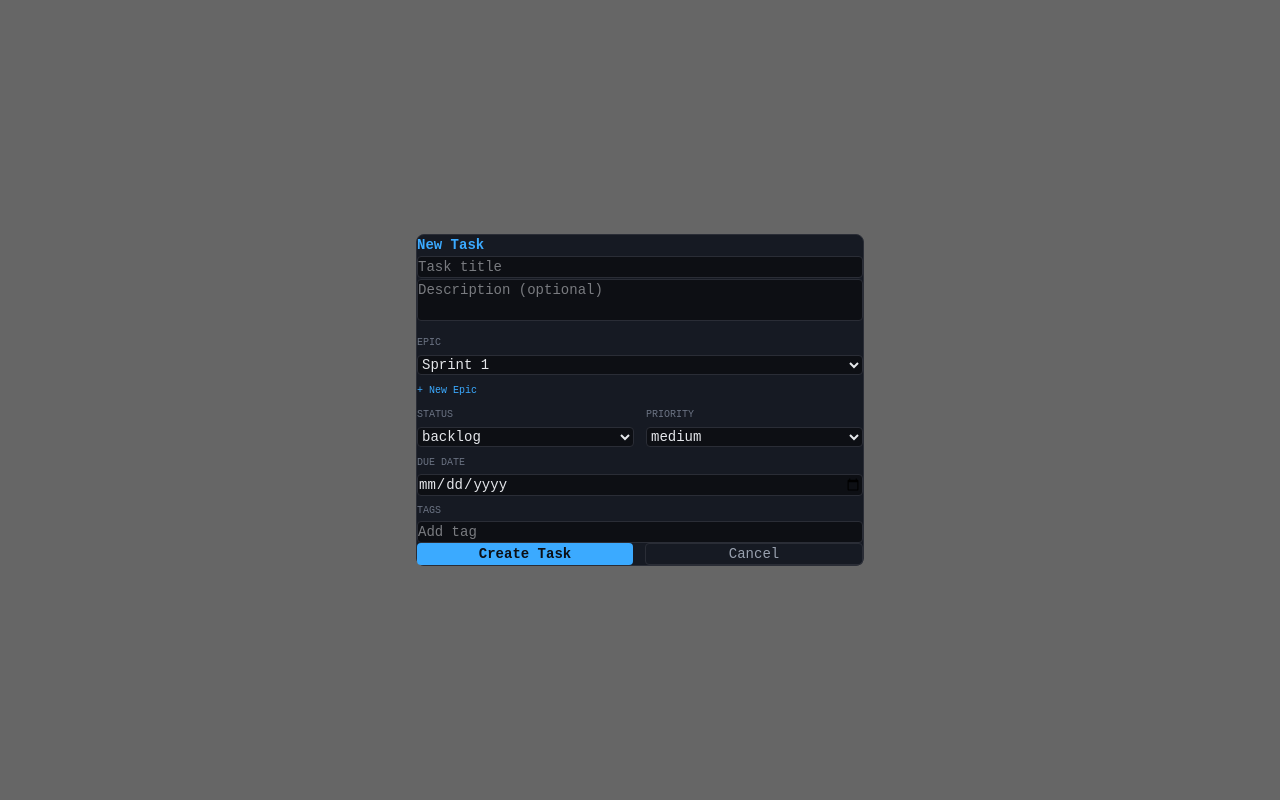
Test case: TaskModal — Inline Epic Creation › shows inline input on "+ New Epic" click
Click the button "+ New Epic": point(447, 390) x1=417 y1=383 x2=477 y2=398
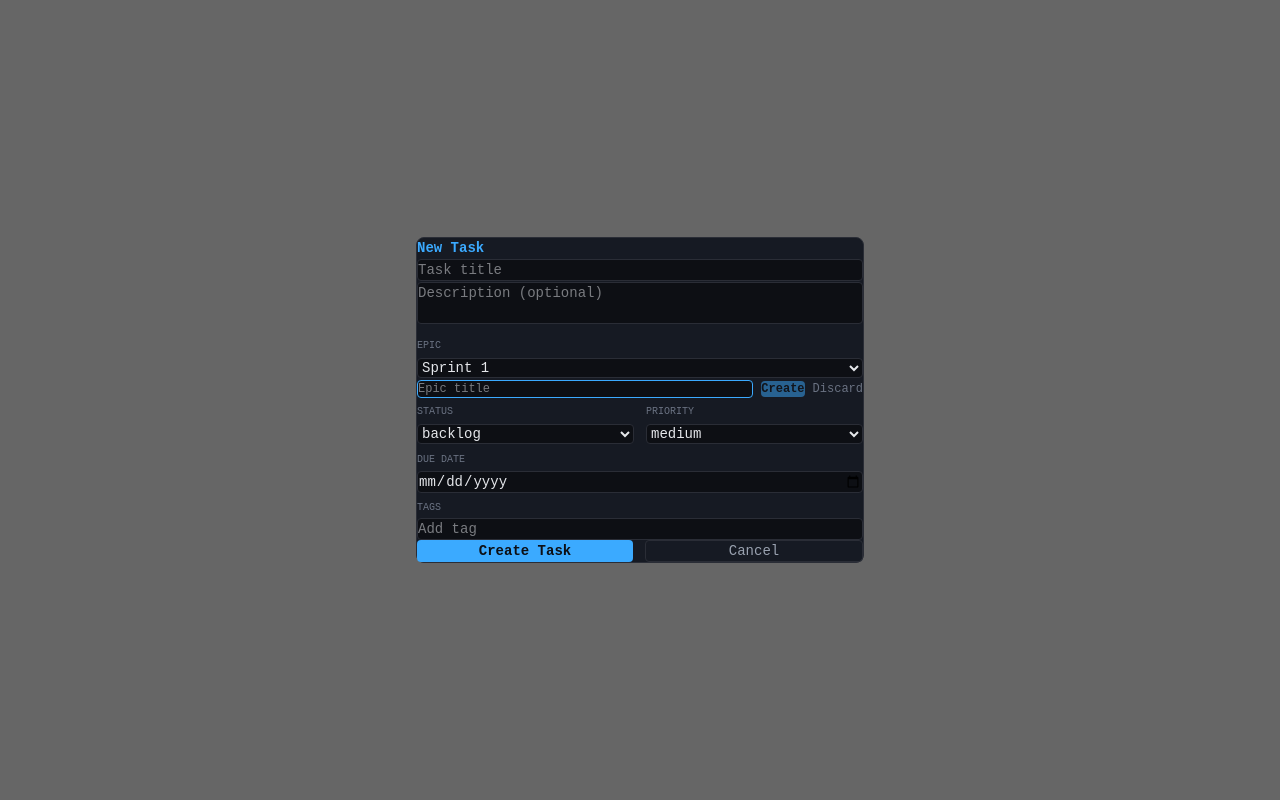
Result: the field with placeholder "Epic title" is shown at x1=417 y1=380 x2=753 y2=398
